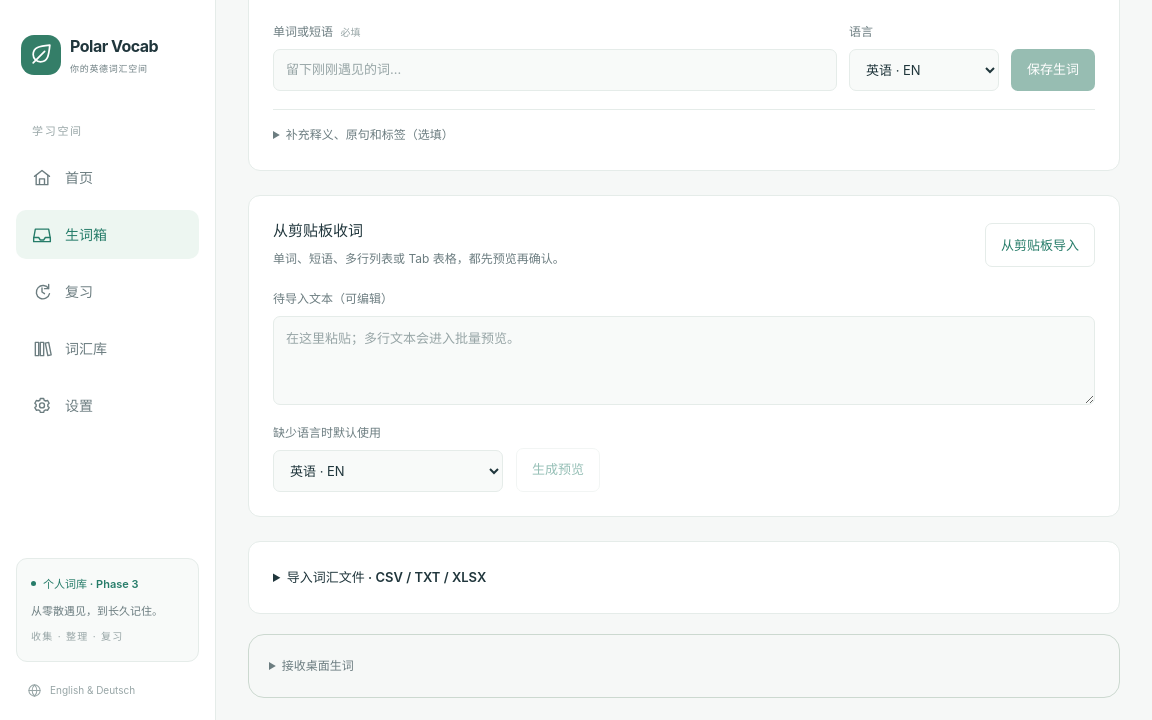
Test: 本机词库交互 › 剪贴板权限拒绝提供手动粘贴并保留原输入
(page scrolled)
Type "behalten" into the text box named "剪贴板或手动粘贴文本" at (684, 360), box x1=273 y1=316 x2=1095 y2=405
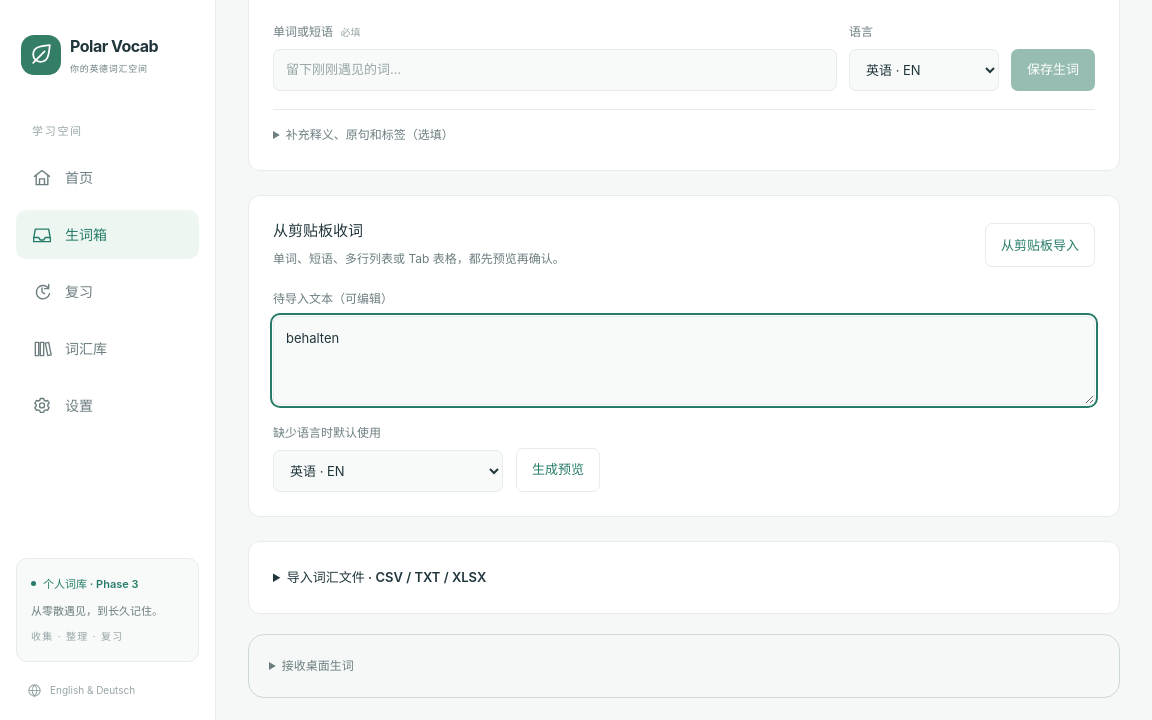
Click the button "从剪贴板导入" at (1040, 246), box x1=985 y1=224 x2=1095 y2=268
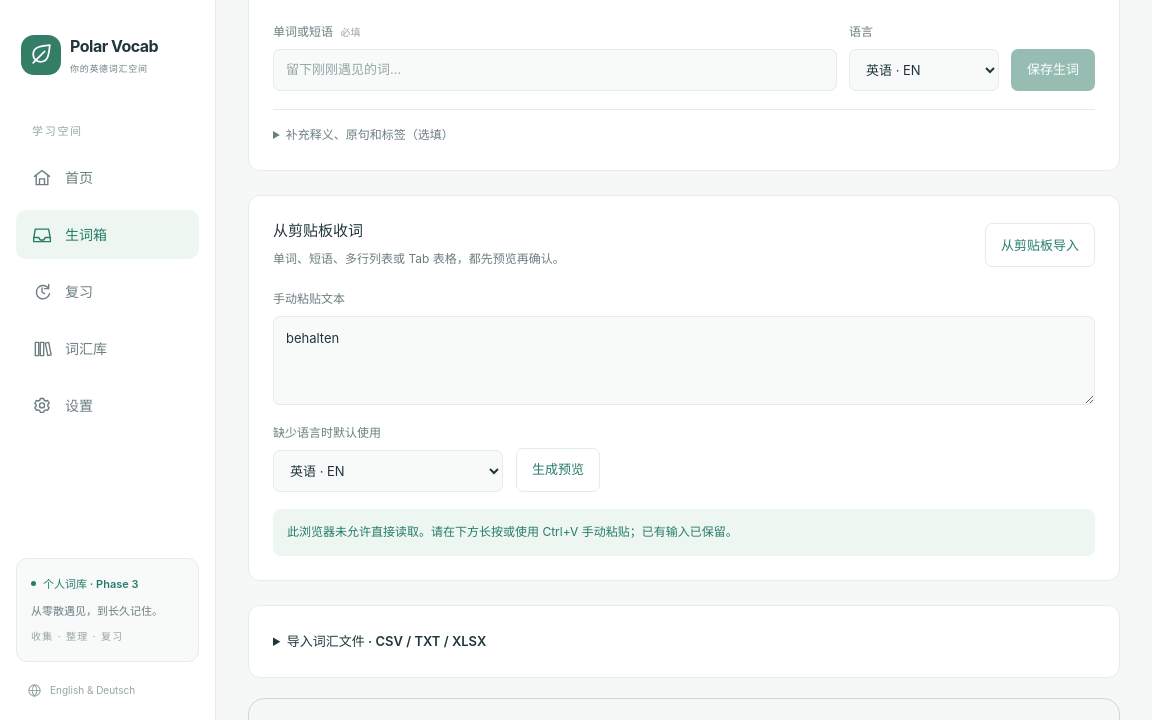
Expected: the text "手动粘贴文本" is shown, x1=273 y1=291 x2=345 y2=306
